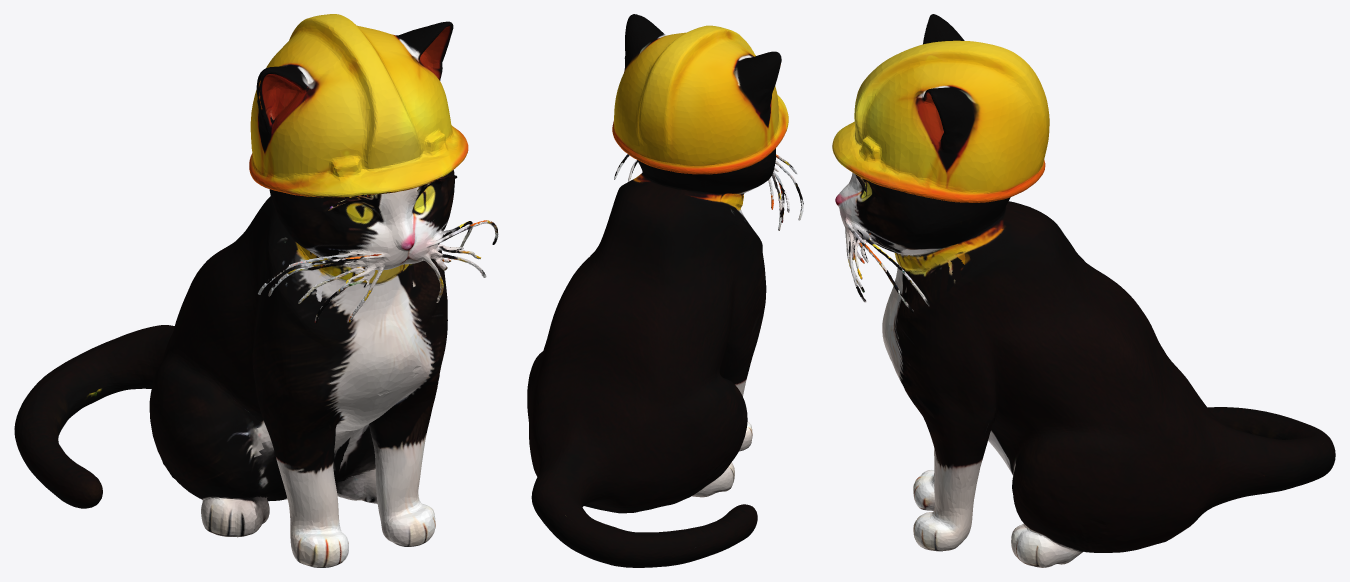
Rendered from cat_hunyuan3d-2.0_delight.glb.
3 renders of one model, left to right at view 1: azimuth 30°, elevation 25°; view 2: azimuth 150°, elevation 25°; view 3: azimuth 270°, elevation 25°, orthographic. The views are drawn at different scales.
Parts seen in each view (by area): view 1: temp_mesh.ply; view 2: temp_mesh.ply; view 3: temp_mesh.ply.
Boxes of the visible parts, x1=… form: temp_mesh.ply: x1=14, y1=14, x2=498, y2=567; temp_mesh.ply: x1=527, y1=14, x2=803, y2=567; temp_mesh.ply: x1=832, y1=14, x2=1335, y2=567.
Bounding box in the file's own units: 1.25 × 1.98 × 1.89.
1 material, 1 textured.
